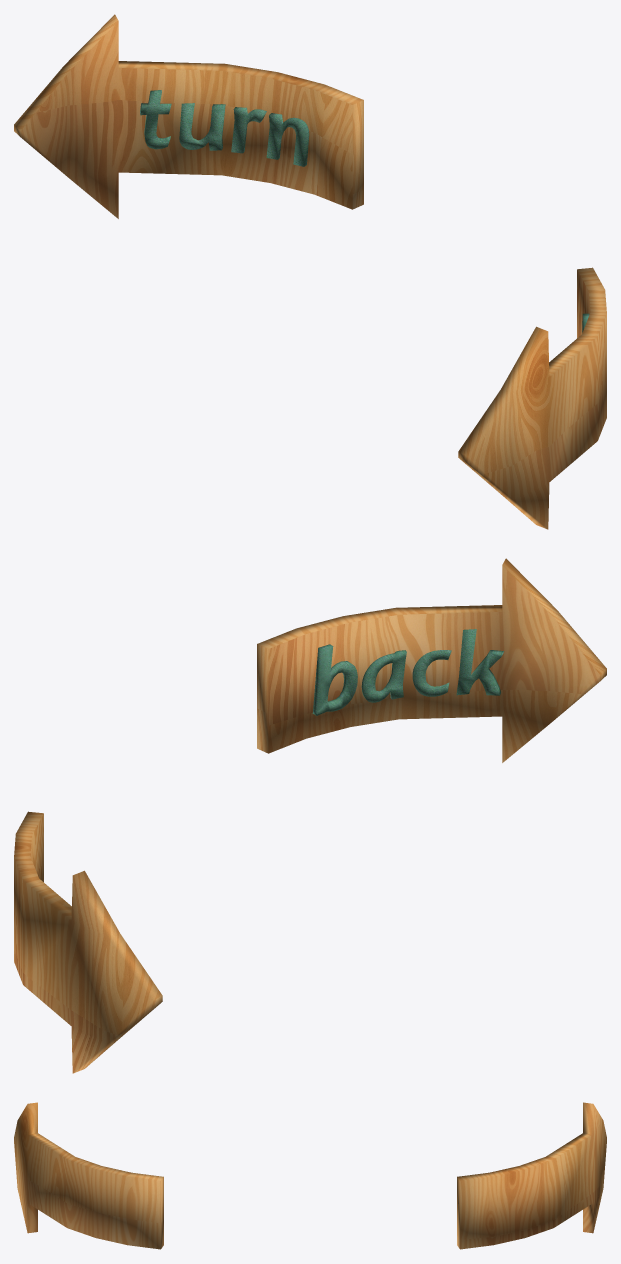
File: turn_back_sign.fbx
The picture shows the model from 3 angles, top to bottom: view 1: azimuth 30°, elevation 25°; view 2: azimuth 150°, elevation 25°; view 3: azimuth 270°, elevation 25°; orthographic projection. The views are drawn at different scales.
Parts seen in each view (by area): view 1: turn_back_sign; view 2: turn_back_sign; view 3: turn_back_sign.
Part boxes in pixels (x1=…): turn_back_sign: x1=14, y1=14, x2=606, y2=529; turn_back_sign: x1=14, y1=558, x2=606, y2=1073; turn_back_sign: x1=14, y1=1102, x2=606, y2=1249.
Size of the model in its own units: 104 by 82.39 by 342.
